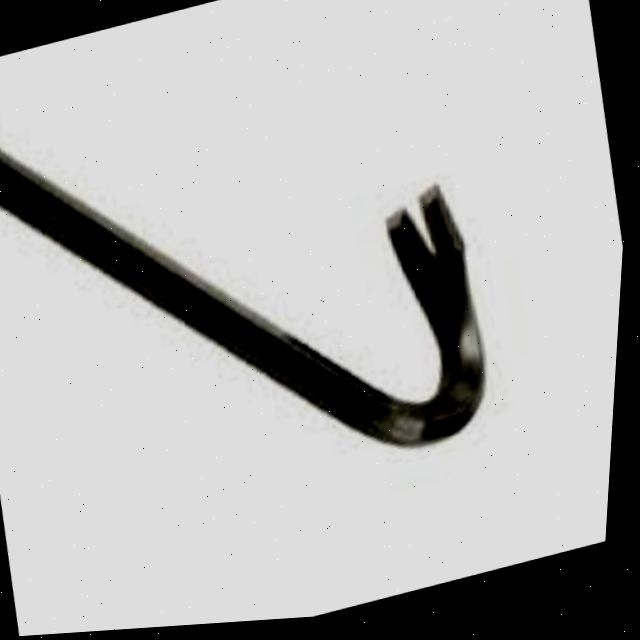crow bar: (0, 0, 532, 561)
